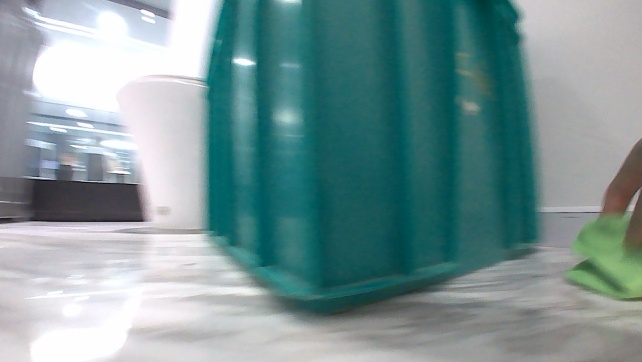socks: (561, 213, 640, 302)
toilet: (110, 70, 207, 233)
